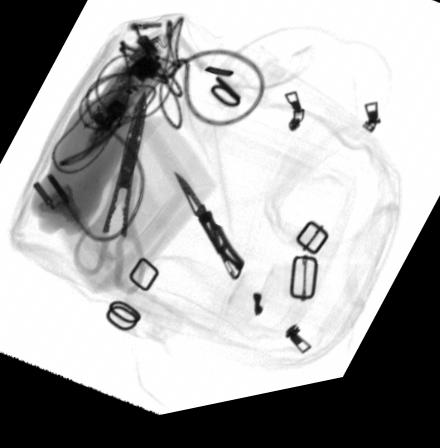Knife: (171, 178, 243, 291)
Scissors: (68, 99, 148, 301)
